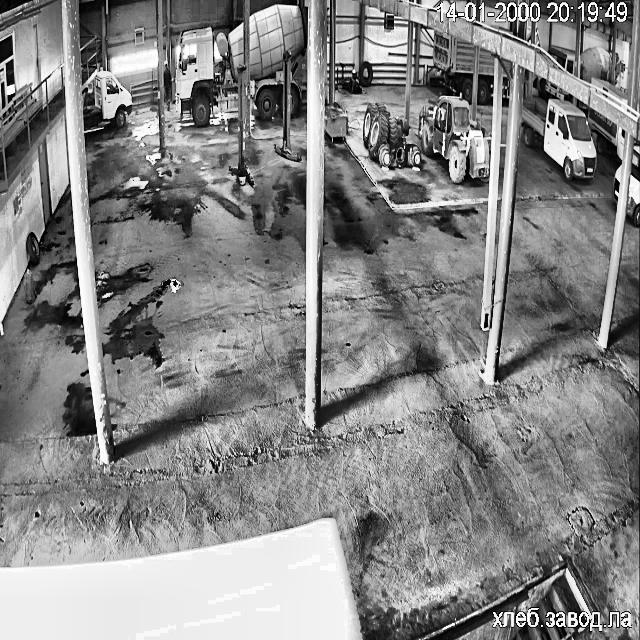class4: (164, 62, 172, 109)
class6: (418, 96, 489, 181), (362, 103, 420, 165)
class7: (176, 24, 244, 124), (248, 4, 306, 117), (522, 99, 596, 180), (433, 28, 473, 100), (84, 70, 132, 125), (588, 108, 620, 153), (626, 142, 640, 227), (580, 46, 610, 83), (477, 48, 494, 102), (592, 77, 628, 102), (548, 45, 574, 73), (536, 77, 570, 97), (500, 61, 510, 97), (613, 164, 620, 201), (616, 53, 622, 76)
truck: (274, 52, 300, 161), (229, 66, 252, 185)
